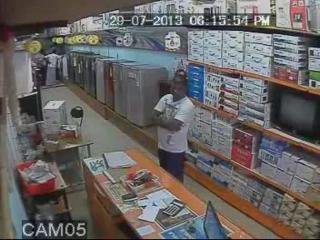Normal: (152, 72, 196, 184), (270, 89, 320, 146)
